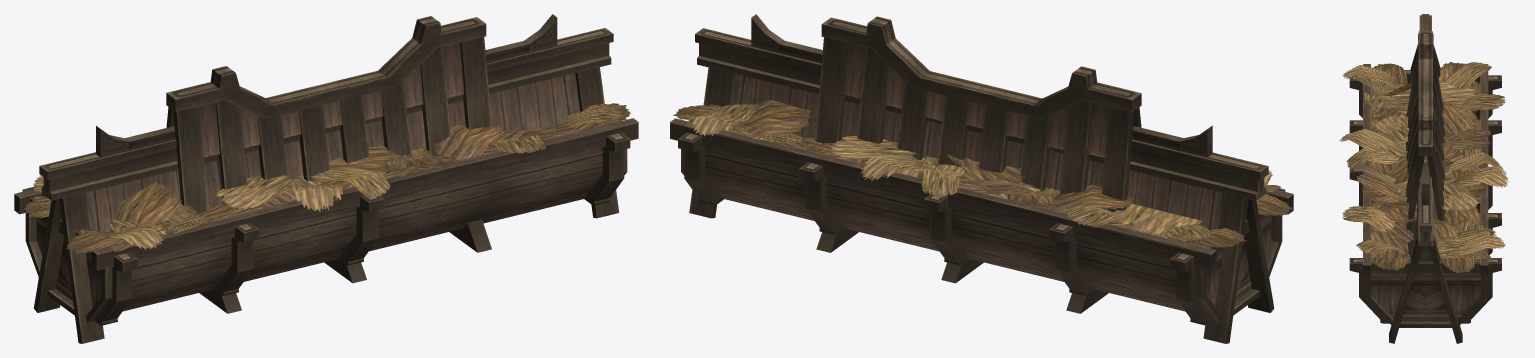
3 views of the same model, side by side, from view 1: azimuth 30°, elevation 25°; view 2: azimuth 150°, elevation 25°; view 3: azimuth 270°, elevation 25° (orthographic). The views are drawn at different scales.
Visible parts, largest first — view 1: MC_2; view 2: MC_2; view 3: MC_2.
Boxes of the visible parts, x1,y1,x2,y2 form: MC_2: (14, 14, 638, 343); MC_2: (670, 14, 1293, 343); MC_2: (1340, 14, 1509, 343).
Size of the model in its own units: 679 by 245 by 260.
